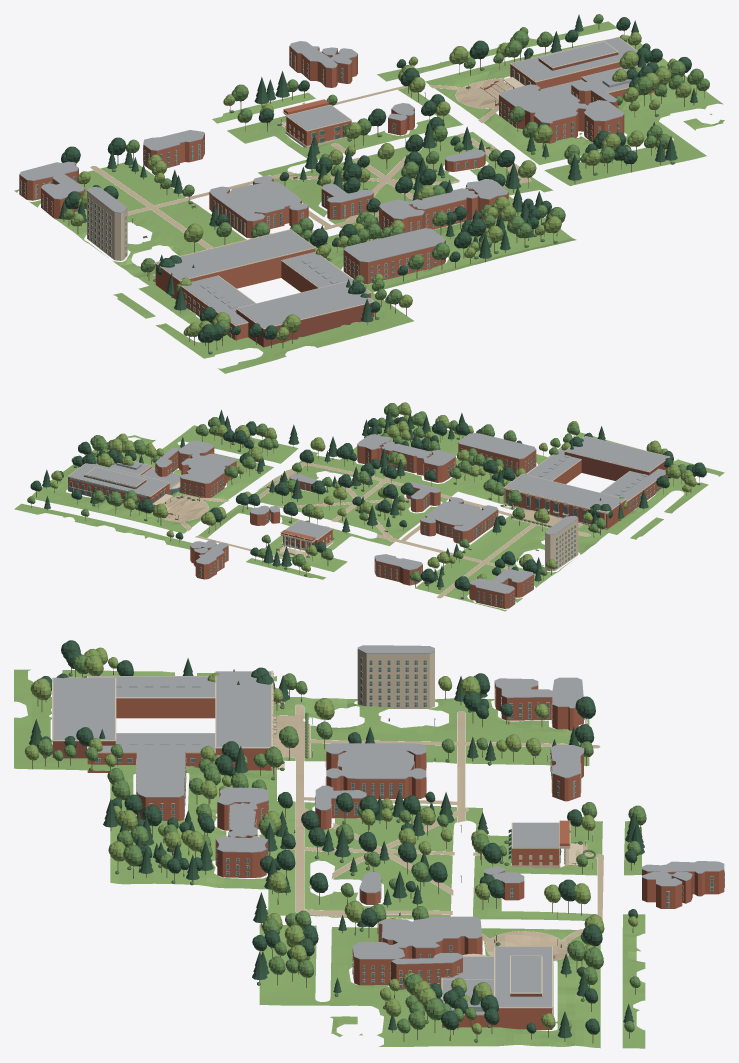
Rendered from visual-pilot.glb.
3 renders of one model, top to bottom at view 1: azimuth 30°, elevation 25°; view 2: azimuth 150°, elevation 25°; view 3: azimuth 270°, elevation 25°, orthographic. The views are drawn at different scales.
Visible parts, largest first — view 1: vegetation, landscape-lawn, roof-6684e091, roof-39f81f68, roof-266f13fd, landscape-paving, roof-16751515, roof-f0b575d6, roof-9ac93ab7, roof-8f611273, roof-7ffcf31b, roof-556799cc (+5 smaller); view 2: vegetation, landscape-lawn, roof-6684e091, landscape-paving, roof-266f13fd, roof-39f81f68, roof-16751515, roof-9ac93ab7, roof-7ffcf31b, roof-f0b575d6, roof-8f611273, roof-906c030e (+4 smaller); view 3: vegetation, landscape-lawn, roof-6684e091, landscape-paving, roof-39f81f68, roof-266f13fd, roof-16751515, roof-8f611273, roof-9ac93ab7, roof-7ffcf31b, roof-f0b575d6, roof-556799cc (+5 smaller).
Part boxes in pixels (left/top/right/bottom): vegetation: left=59, top=14, right=709, bottom=352; landscape-lawn: left=14, top=21, right=724, bottom=373; roof-6684e091: left=153, top=229, right=374, bottom=347; roof-39f81f68: left=499, top=81, right=624, bottom=143; roof-266f13fd: left=480, top=37, right=666, bottom=98; landscape-paving: left=90, top=78, right=531, bottom=275; roof-16751515: left=209, top=176, right=308, bottom=238; roof-f0b575d6: left=343, top=228, right=445, bottom=284; roof-9ac93ab7: left=379, top=178, right=508, bottom=232; roof-8f611273: left=87, top=187, right=127, bottom=260; roof-7ffcf31b: left=19, top=161, right=85, bottom=218; roof-556799cc: left=289, top=41, right=357, bottom=87; vegetation: left=27, top=402, right=706, bottom=598; landscape-lawn: left=14, top=417, right=724, bottom=611; roof-6684e091: left=503, top=436, right=669, bottom=531; landscape-paving: left=161, top=462, right=590, bottom=598; roof-266f13fd: left=67, top=460, right=190, bottom=517; roof-39f81f68: left=155, top=440, right=236, bottom=500; roof-16751515: left=420, top=497, right=498, bottom=543; roof-9ac93ab7: left=357, top=434, right=455, bottom=482; roof-7ffcf31b: left=469, top=569, right=533, bottom=608; roof-f0b575d6: left=458, top=433, right=536, bottom=473; roof-8f611273: left=545, top=515, right=578, bottom=571; roof-906c030e: left=278, top=520, right=333, bottom=557; vegetation: left=25, top=640, right=646, bottom=1043; landscape-lawn: left=14, top=669, right=645, bottom=1048; roof-6684e091: left=52, top=670, right=284, bottom=772; landscape-paving: left=273, top=704, right=603, bottom=961; roof-39f81f68: left=352, top=916, right=482, bottom=989; roof-266f13fd: left=441, top=946, right=558, bottom=1029; roof-16751515: left=325, top=743, right=426, bottom=798; roof-8f611273: left=357, top=645, right=434, bottom=708; roof-9ac93ab7: left=215, top=787, right=268, bottom=877; roof-7ffcf31b: left=494, top=677, right=584, bottom=730; roof-f0b575d6: left=136, top=748, right=186, bottom=820; roof-556799cc: left=642, top=861, right=724, bottom=908.
Size of the model in its own units: 500 by 36.05 by 405.
